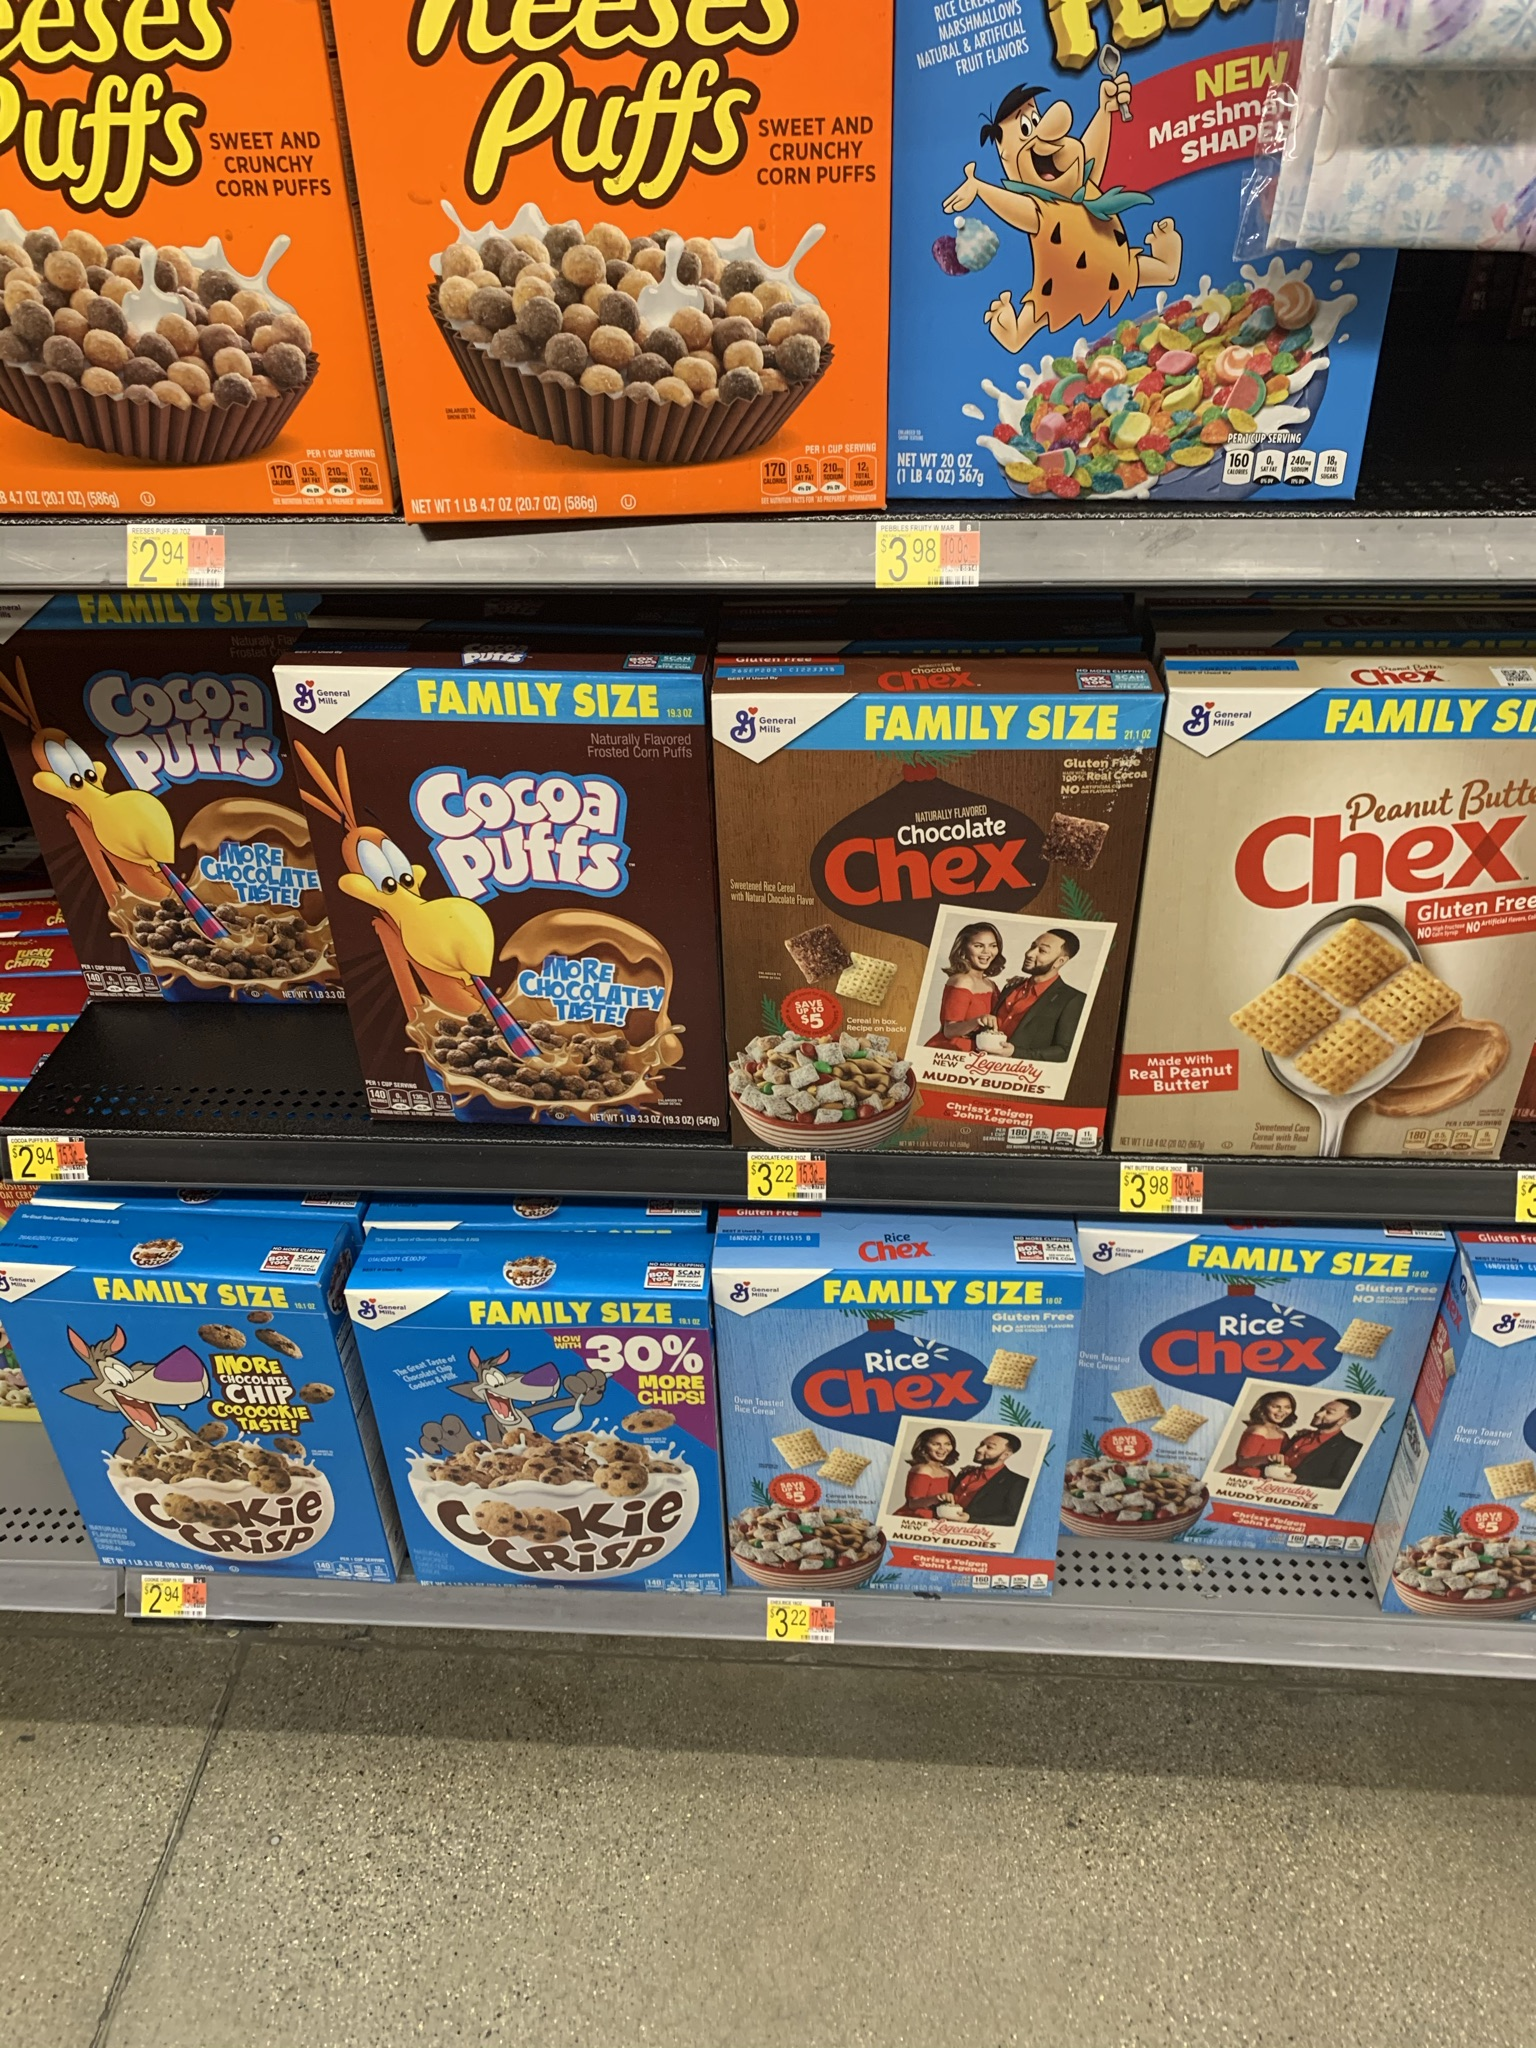box: (411, 8, 878, 513), (2, 2, 329, 514), (750, 705, 1110, 1106), (1178, 718, 1518, 1135), (361, 684, 712, 1087), (745, 1280, 1050, 1587), (1108, 1243, 1384, 1553), (423, 1305, 716, 1588), (73, 701, 319, 1001), (73, 1297, 311, 1558)
